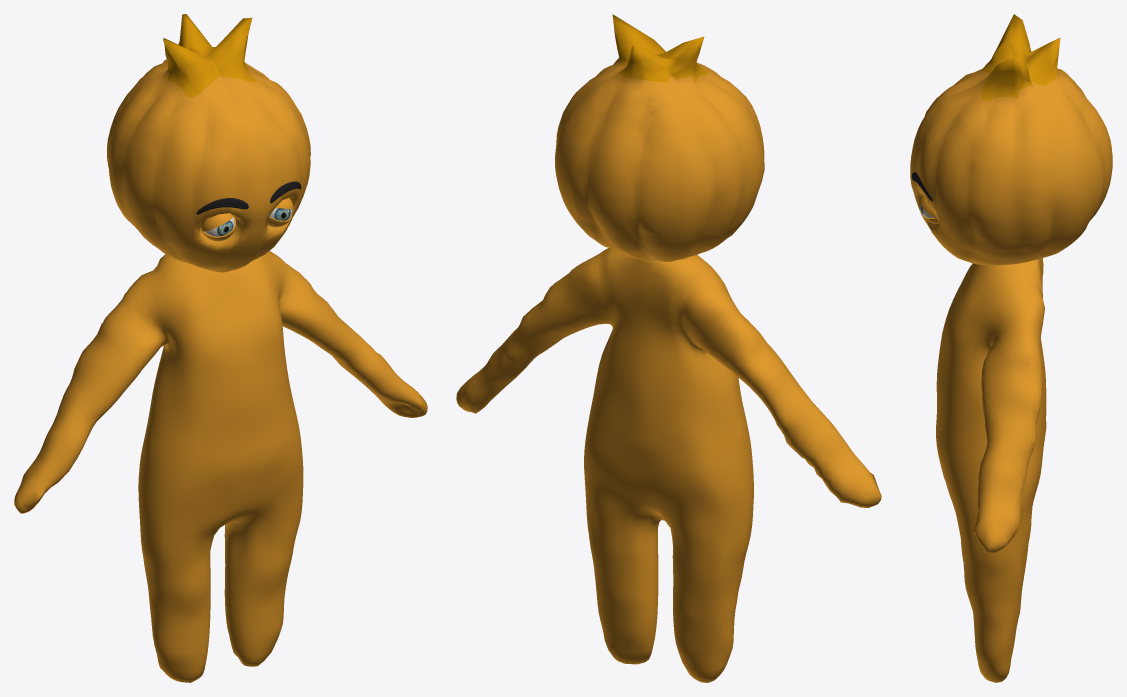
File: Onion TopV3.fbx
3 views of the same model, side by side, from view 1: azimuth 30°, elevation 25°; view 2: azimuth 150°, elevation 25°; view 3: azimuth 270°, elevation 25° (orthographic). The views are drawn at different scales.
Parts seen in each view (by area): view 1: Body, Head, Eyelid, Plane; view 2: Body, Head; view 3: Head, Body.
Boxes of the visible parts, left/top/right/bottom form: Body: left=14, top=251, right=427, bottom=682; Head: left=107, top=14, right=310, bottom=272; Eyelid: left=200, top=197, right=293, bottom=241; Plane: left=196, top=181, right=301, bottom=214; Body: left=456, top=248, right=881, bottom=682; Head: left=555, top=14, right=764, bottom=261; Head: left=910, top=14, right=1112, bottom=265; Body: left=936, top=258, right=1046, bottom=682.
Bounding box in the file's own units: 459 × 680 × 198.
Materials: 4 (1 with a texture image).
